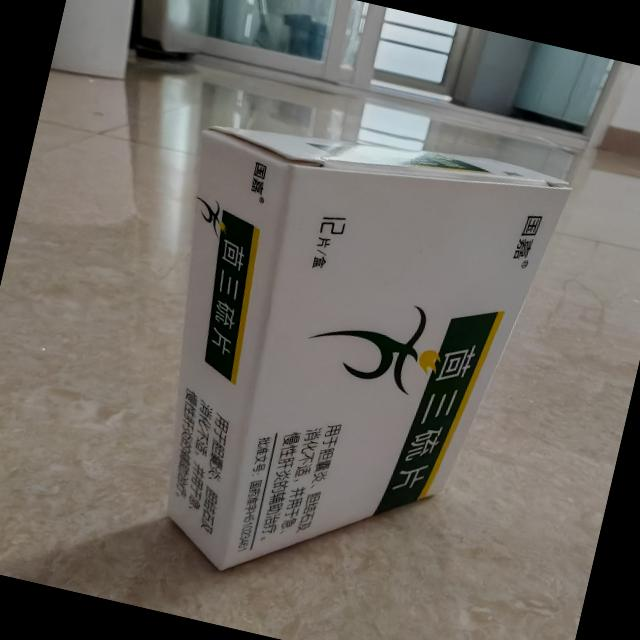box: (99, 90, 586, 638)
